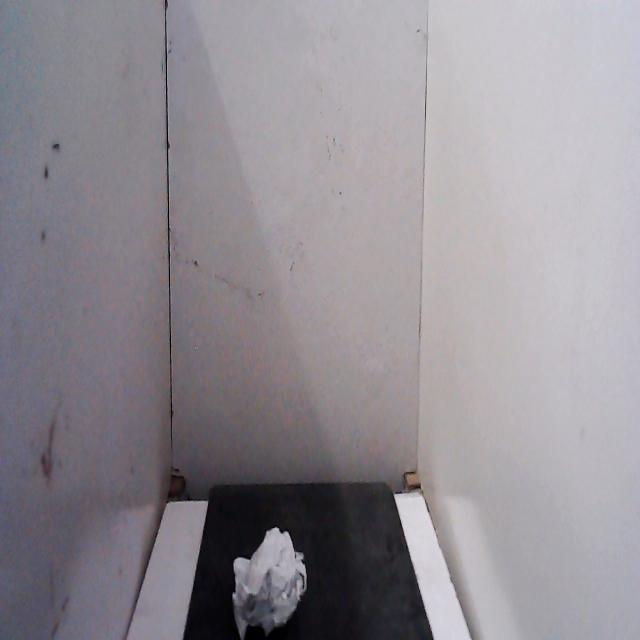papel: (226, 520, 310, 640)
